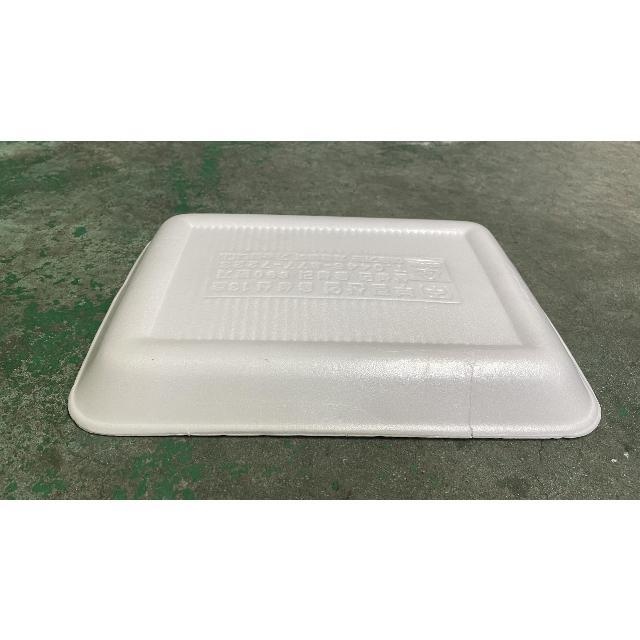Plastico descartable: (67, 214, 603, 441)
